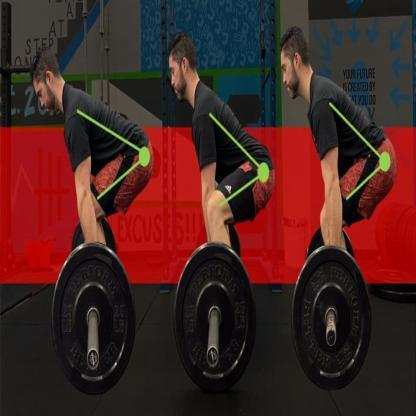barbell: (50, 213, 137, 397), (172, 214, 258, 394), (288, 222, 375, 394)
